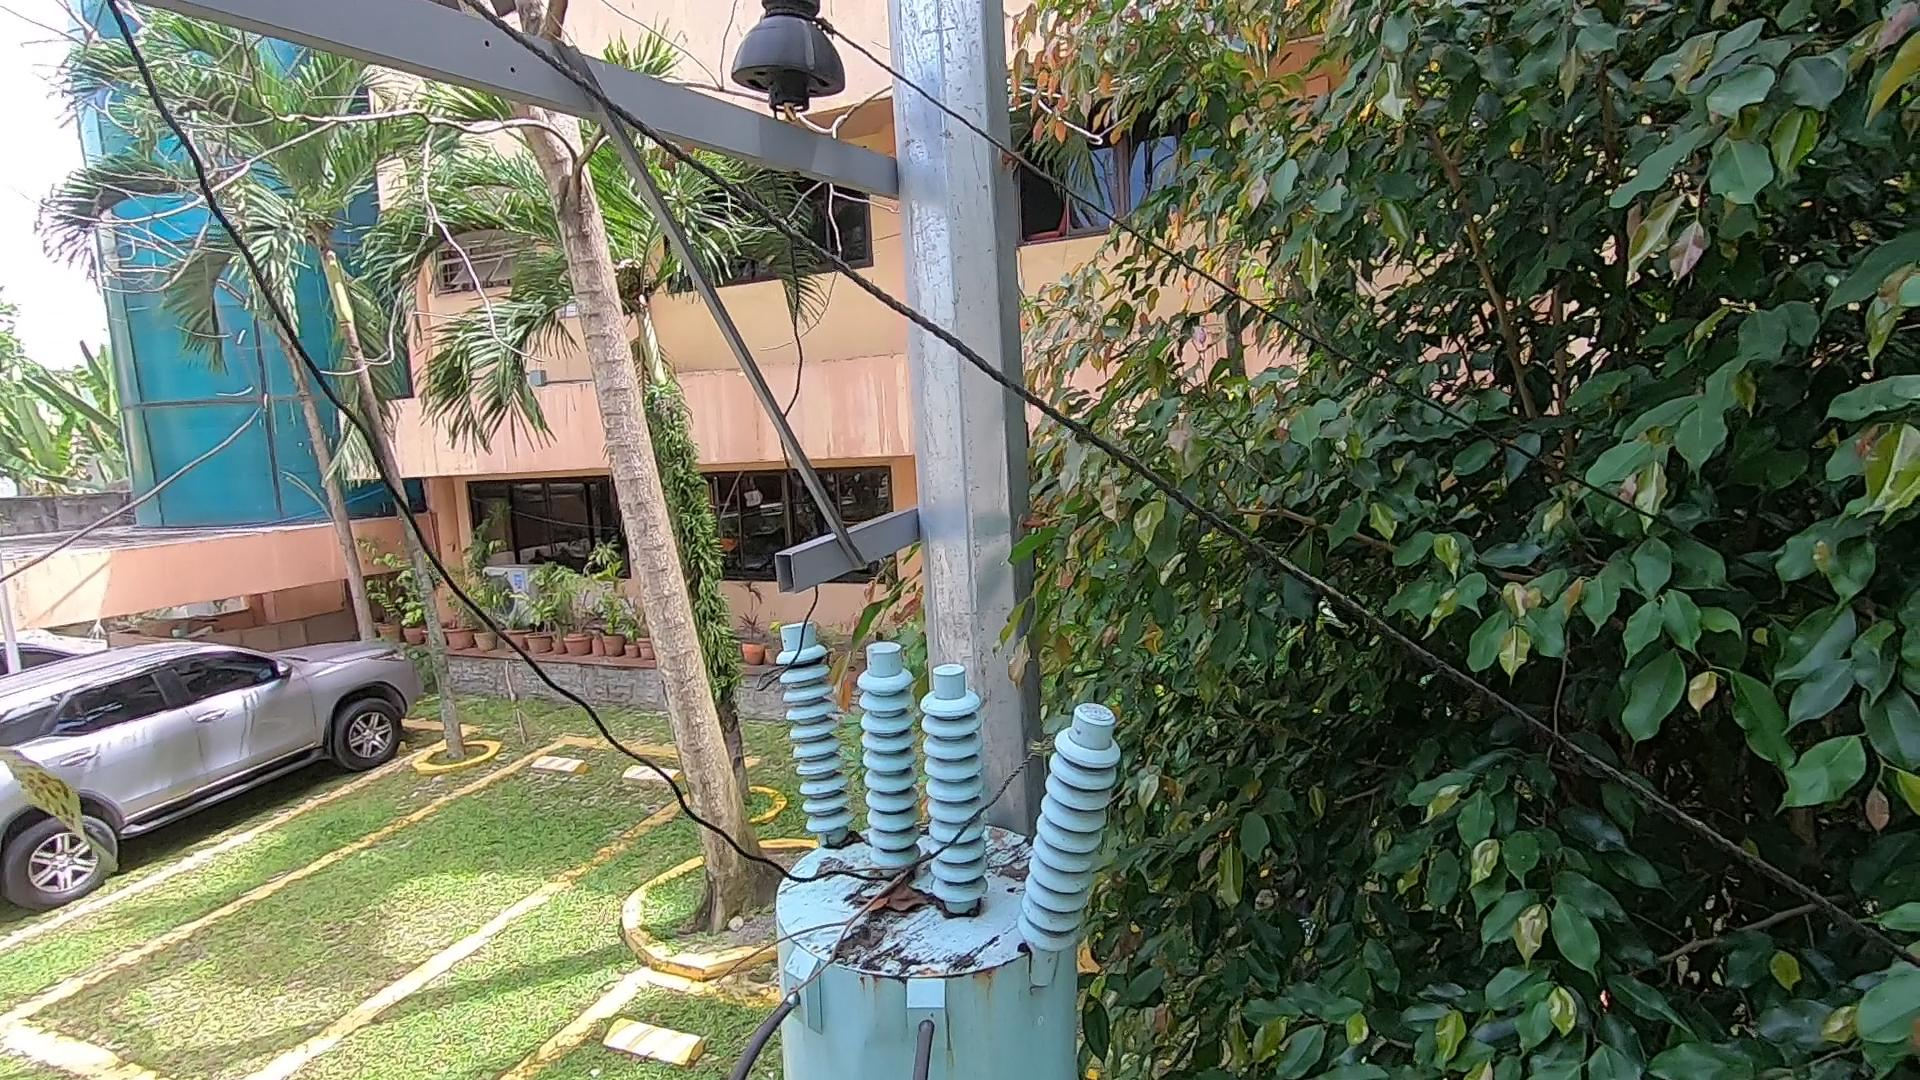leaf: (990, 848, 1062, 898), (865, 878, 952, 913), (829, 822, 866, 844)
tree branch: (708, 804, 936, 1021)
